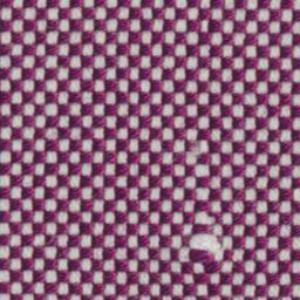defect: (189, 124, 224, 278)
